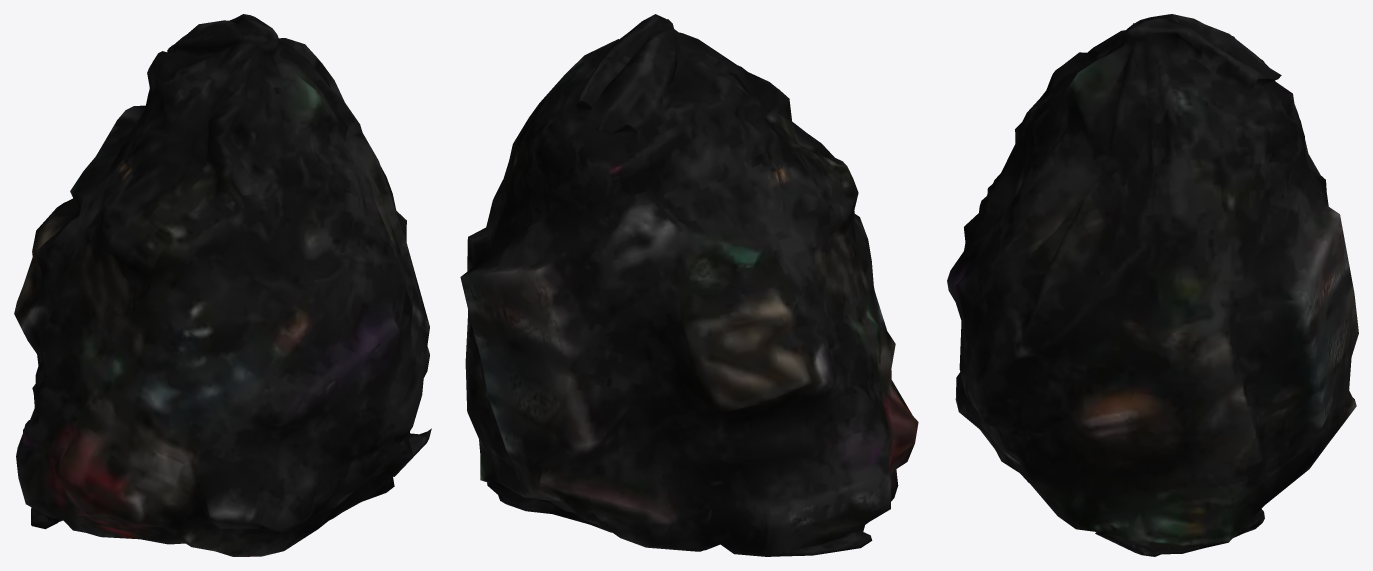
The model's file is trashbag.glb.
The picture shows the model from 3 angles, left to right: view 1: azimuth 30°, elevation 25°; view 2: azimuth 150°, elevation 25°; view 3: azimuth 270°, elevation 25°; orthographic projection. The views are drawn at different scales.
Parts seen in each view (by area): view 1: trashbag; view 2: trashbag; view 3: trashbag.
Part boxes in pixels (x1,y1,x2,y2): trashbag: (14, 14, 431, 556); trashbag: (460, 14, 918, 556); trashbag: (947, 14, 1358, 556).
Bounding box in the file's own units: 0.5281 × 0.575 × 0.4629.
Materials: 1 (1 with a texture image).
